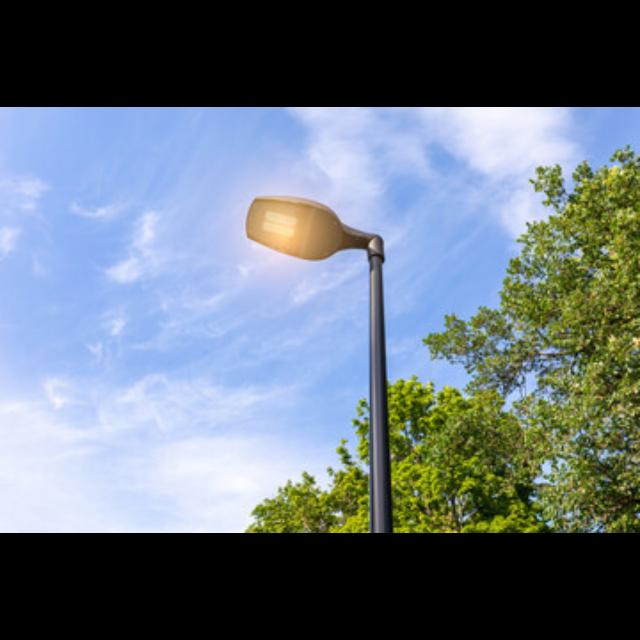Street-Lamp: (230, 176, 442, 534)
